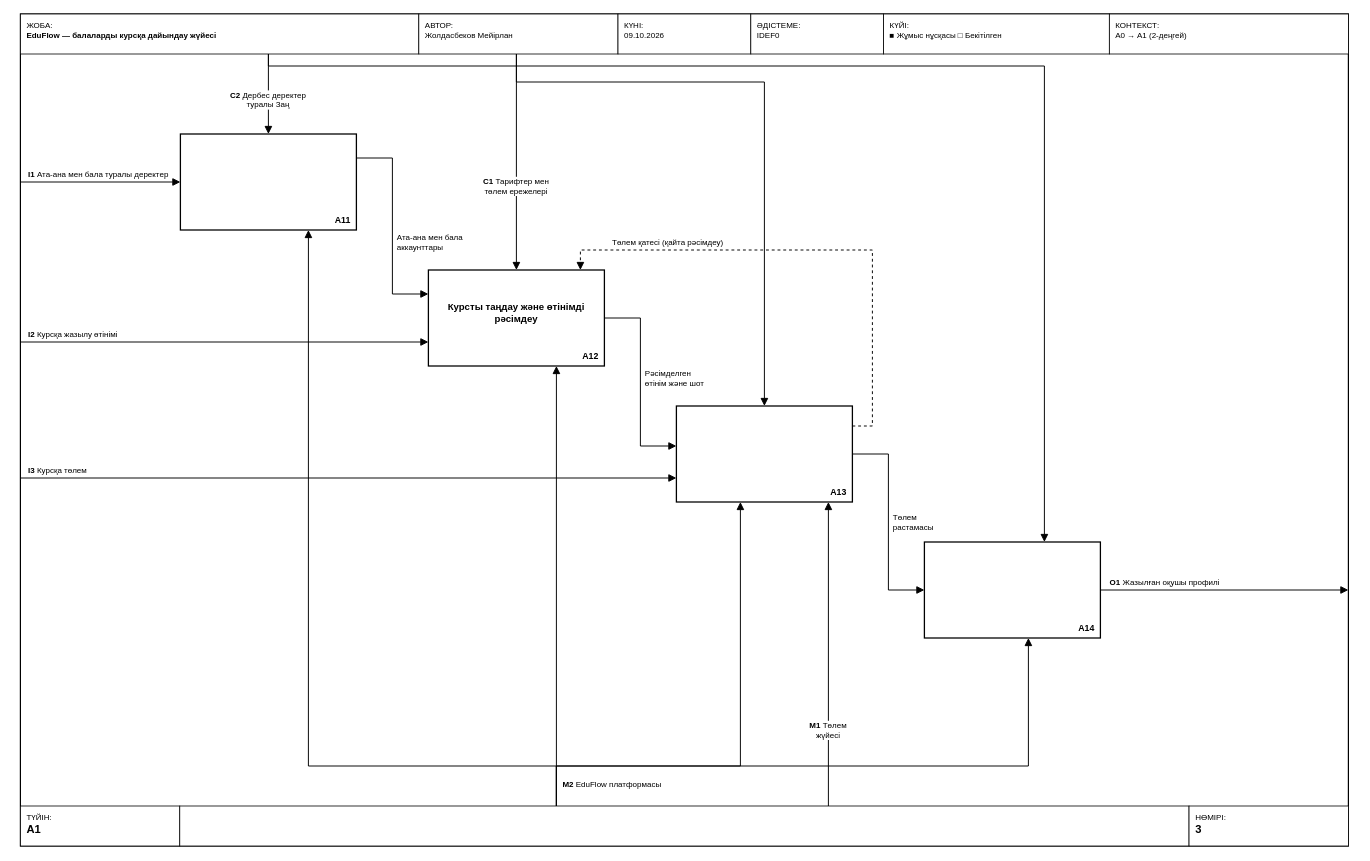
Image size: 1370x861. Some labels were removed from this diagram. The shapes that lost their labels are listed below. From the top down, each one's box as (x1, y1, x2, y2) in pixels, then its label:
(179, 133, 357, 230): Ата-ана мен баланы тіркеу
(675, 405, 853, 502): Курсқа ақы төлеу
(923, 541, 1101, 638): Жазылуды растау және оқушы профилін қалыптастыру
(179, 805, 1189, 846): АТАУЫ: Оқушыны тіркеу және курсқа жазу
